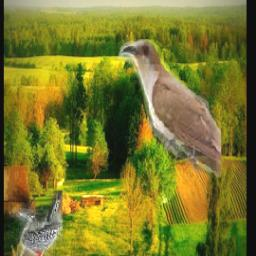Cuckoo: (119, 40, 222, 179)
Woodpecker: (9, 191, 64, 256)
